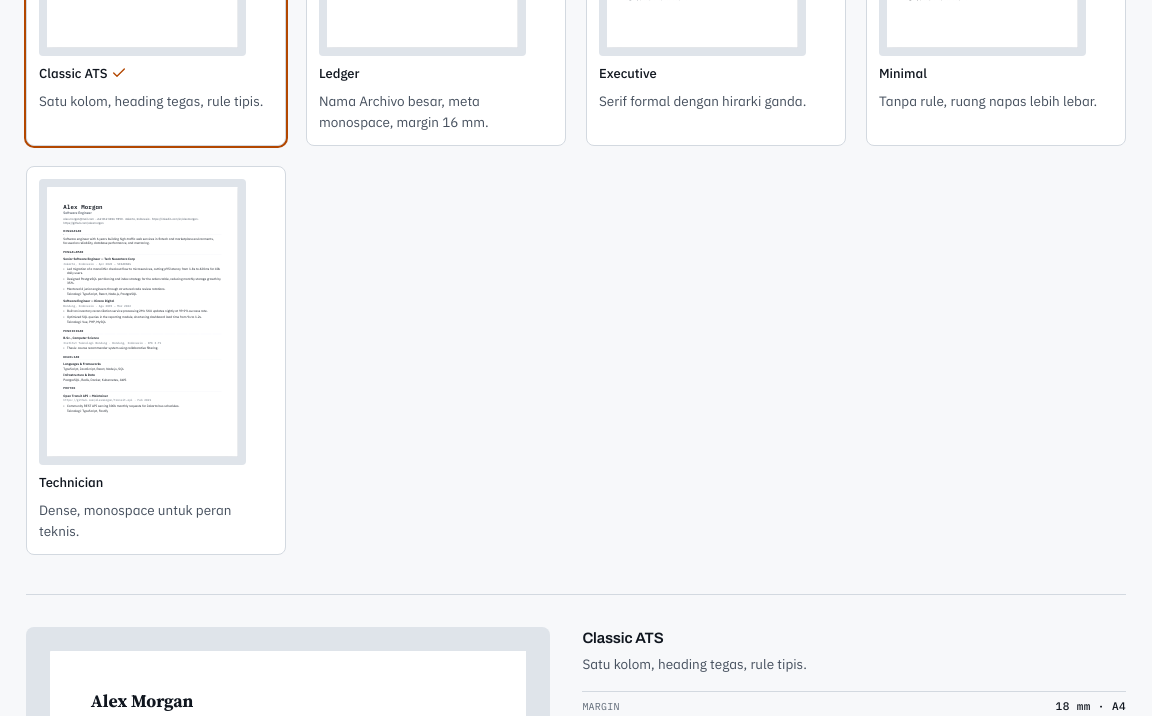
it: /templates — galeri lima template › memilih kartu mengganti panel detail beserta tabel speksifikasinya
(page scrolled)
Expected: the heading "Classic ATS" is shown, [582,630,664,646]
Click the button named "Technician".
click(156, 360)  # box [26,166,286,554]
(page scrolled)
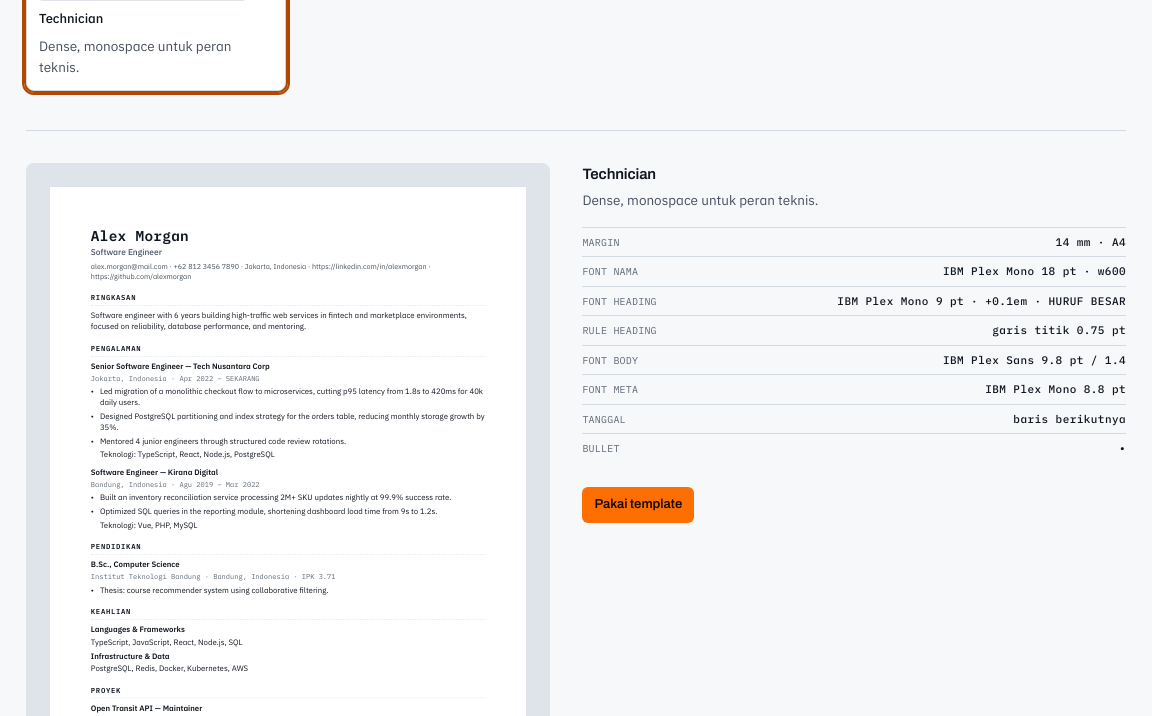
Expected: the text "Margin" is shown, [582,235,620,250]
Now the heading "Technician" is shown, box [582,166,656,182]
